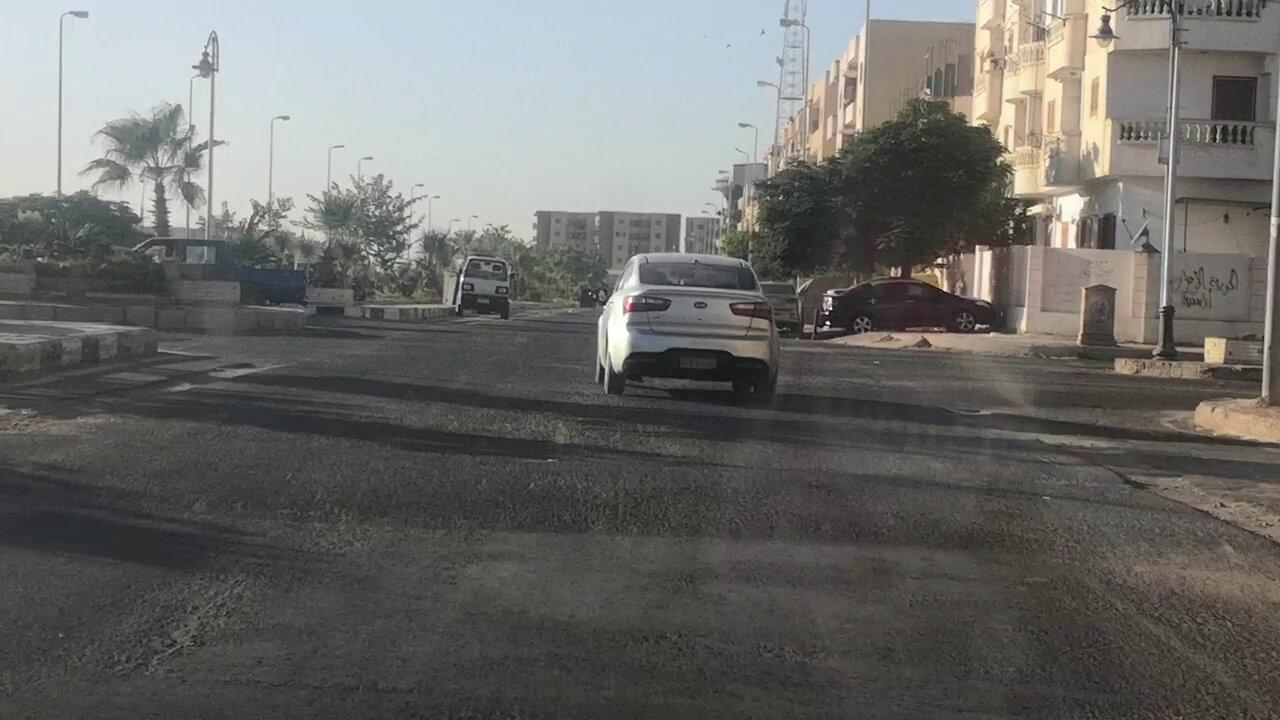Bump: (82, 433, 1280, 587)
